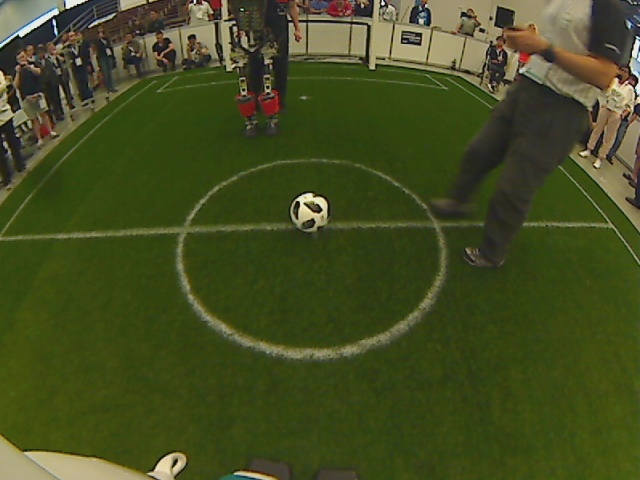ball: (286, 190, 332, 238)
